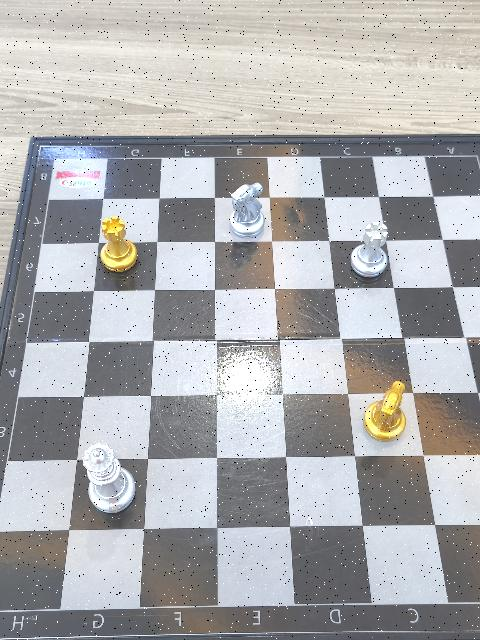black_knight: (361, 380, 408, 440)
black_rook: (98, 216, 138, 276)
white_knight: (227, 181, 267, 242)
white_queen: (79, 442, 136, 518)
white_rook: (349, 221, 391, 281)
